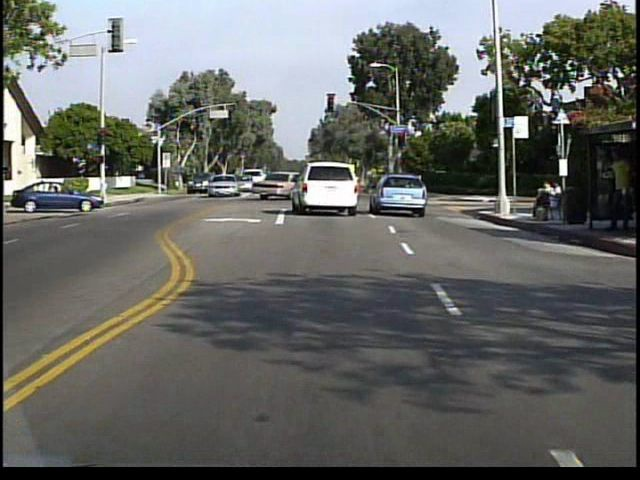person: (531, 178, 553, 218), (550, 178, 564, 219)
